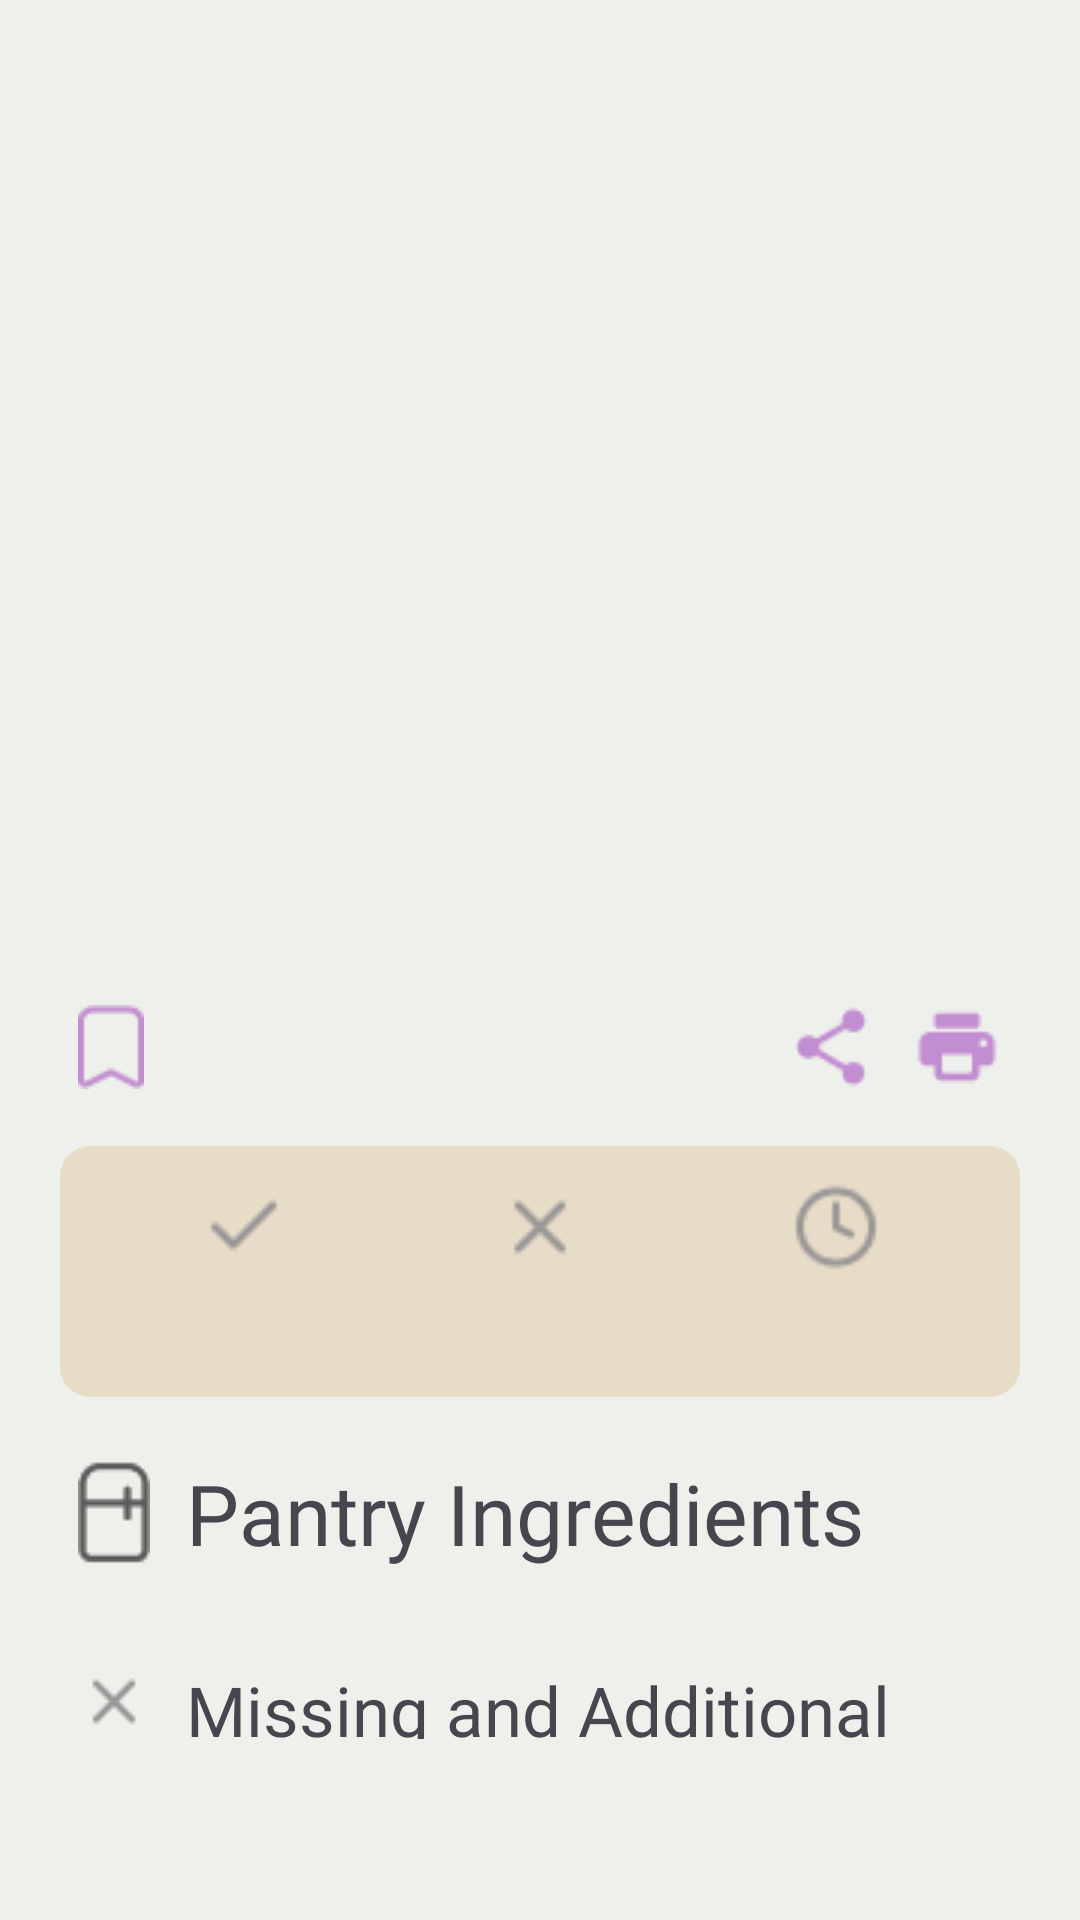

Screen size 1080 x 1920. Icon name, then its center in pixels as (x=x, y=y):
clock: (x=836, y=1227)
favorite off: (x=111, y=1047)
in pantry: (x=244, y=1225)
not in pantry: (x=540, y=1227), (x=114, y=1701)
print: (x=957, y=1047)
share: (x=831, y=1047)
